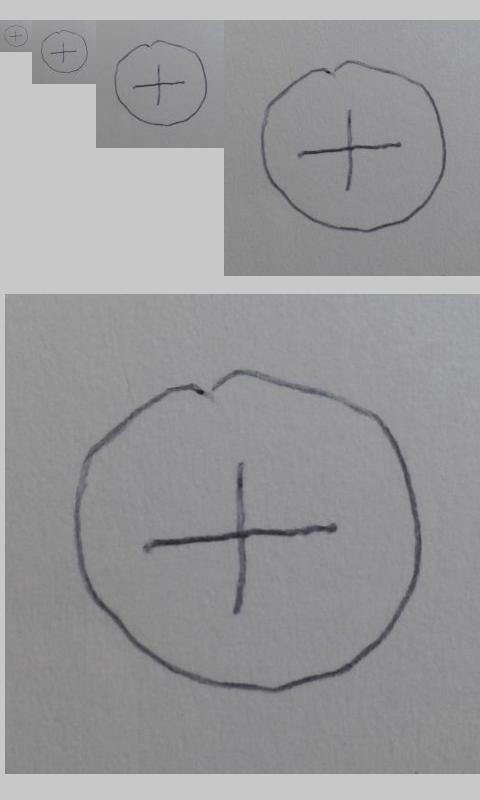button: (69, 364, 424, 696), (259, 59, 448, 234), (113, 39, 208, 127), (40, 29, 88, 74), (3, 24, 28, 47)
